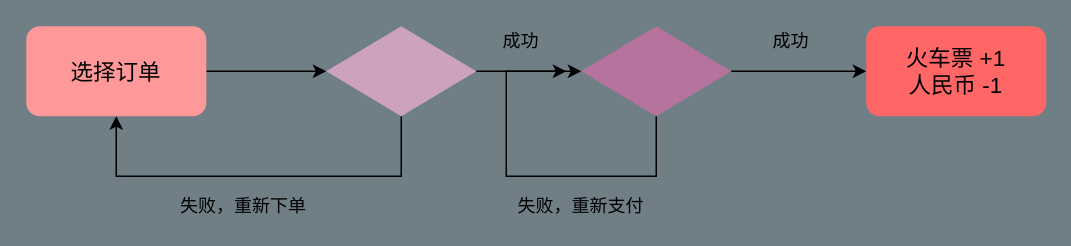
This 1071x246 diagram has some shape labels left out. The shapes that lost their labels are listed below. From the top down, each one's box as (x1, y1, x2, y2) in pixels, then its label:
(326, 26, 476, 116): 提交
(580, 26, 730, 116): 支付
